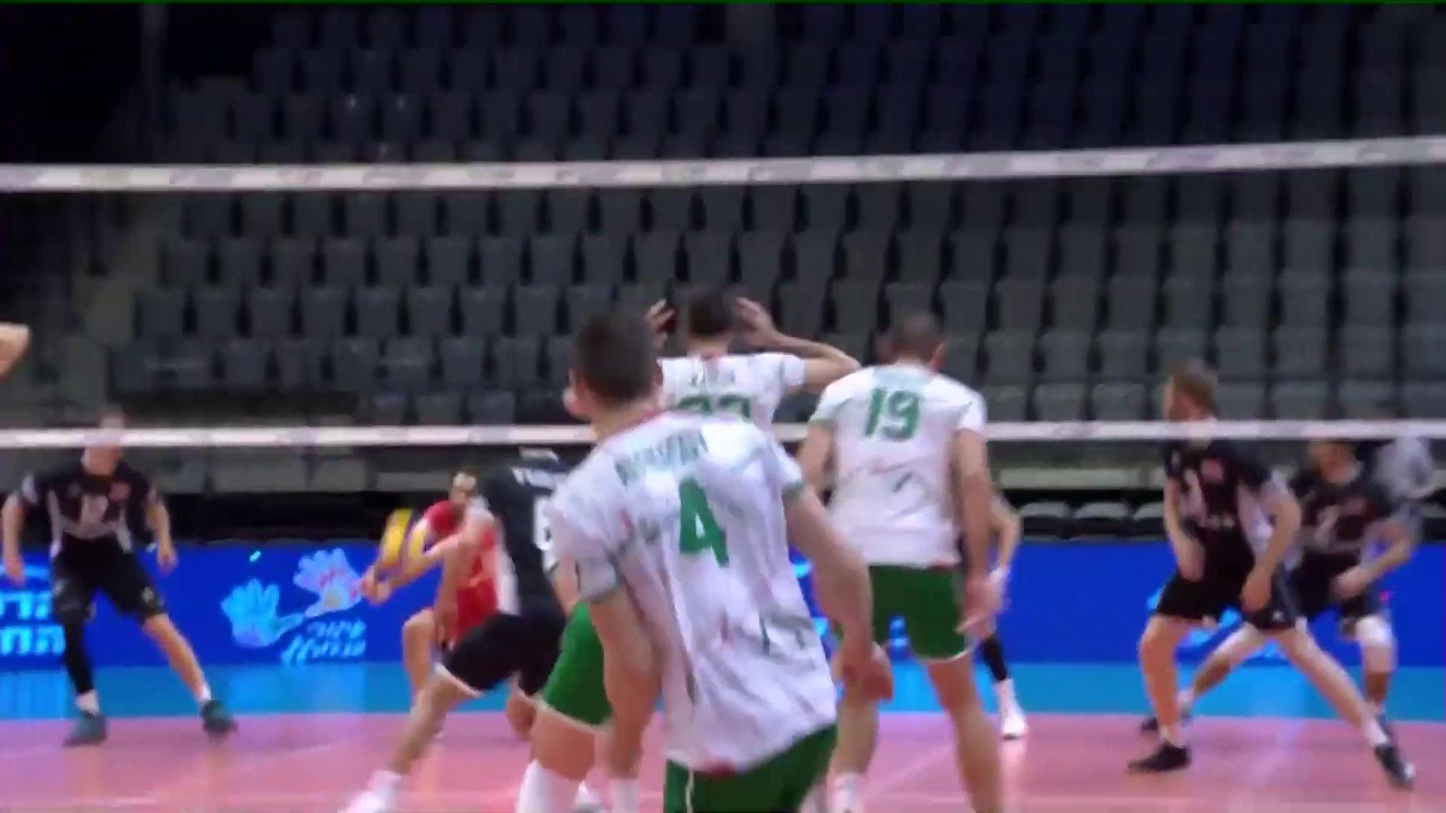ball: (369, 511, 432, 575)
